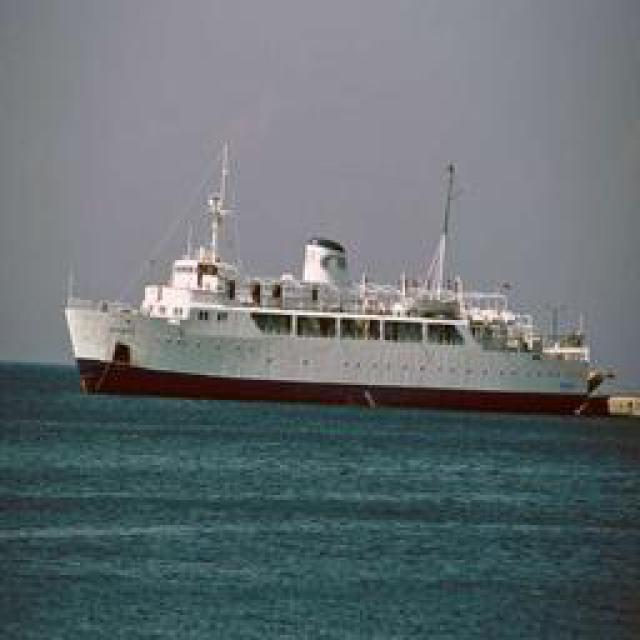Ship: (65, 140, 615, 410)
